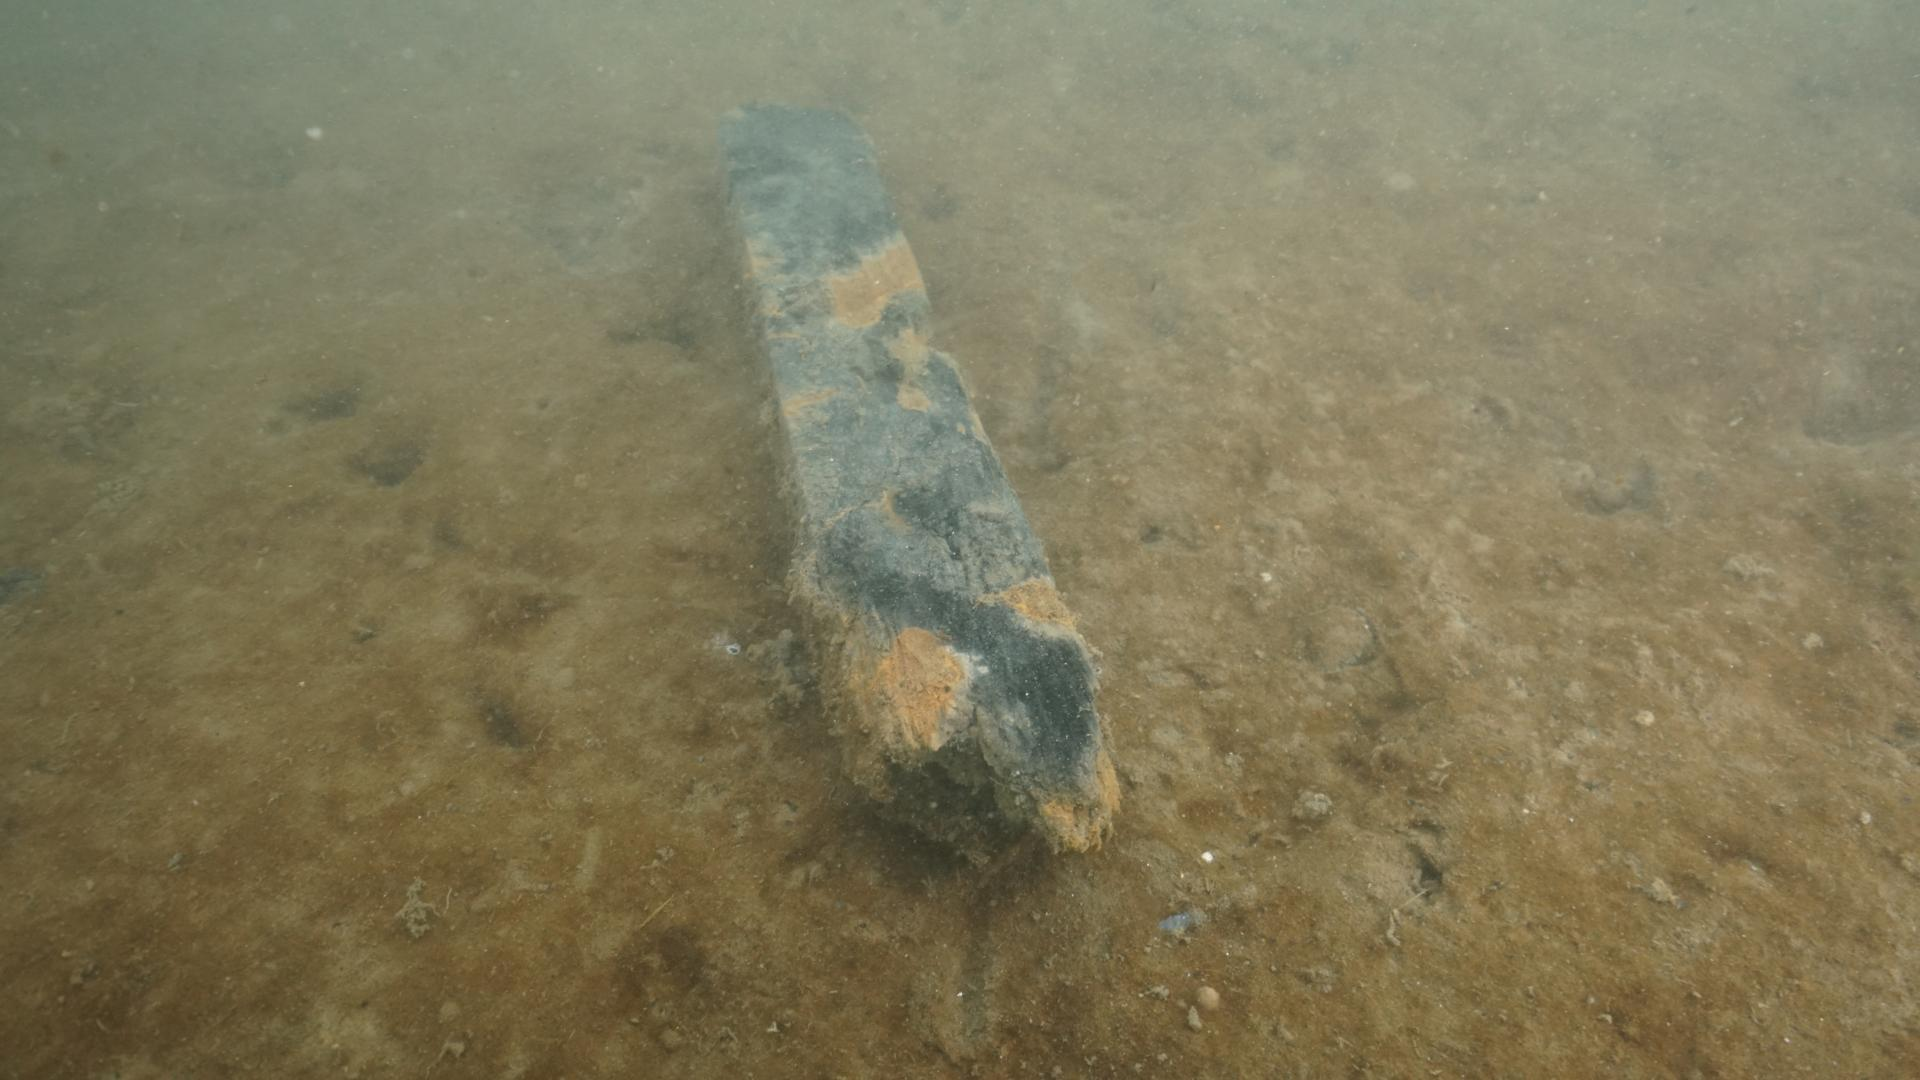wood: (713, 96, 1129, 860)
